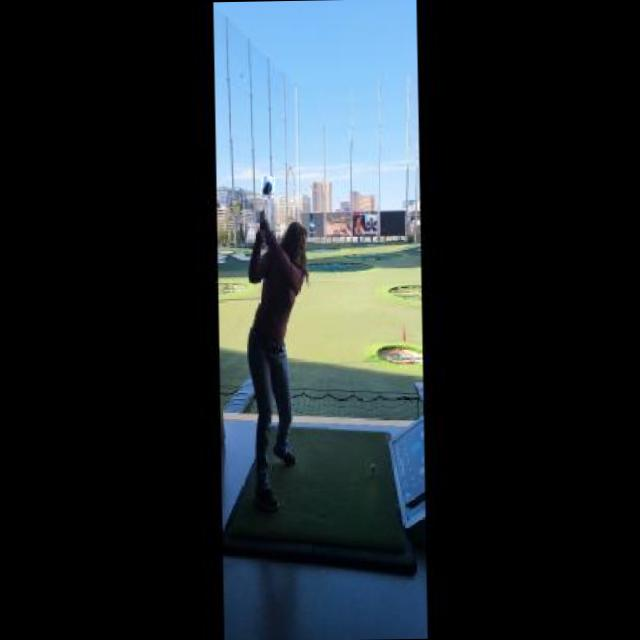club head: (260, 177, 274, 199)
